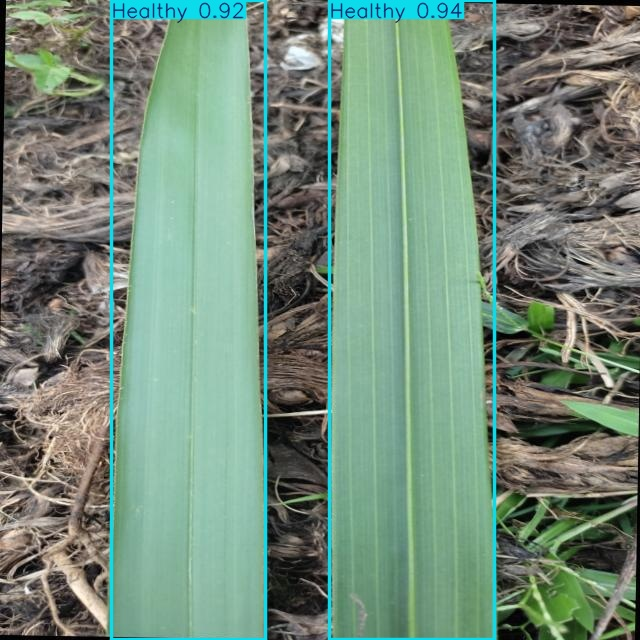Healthy: (329, 0, 494, 640), (112, 0, 265, 639)
